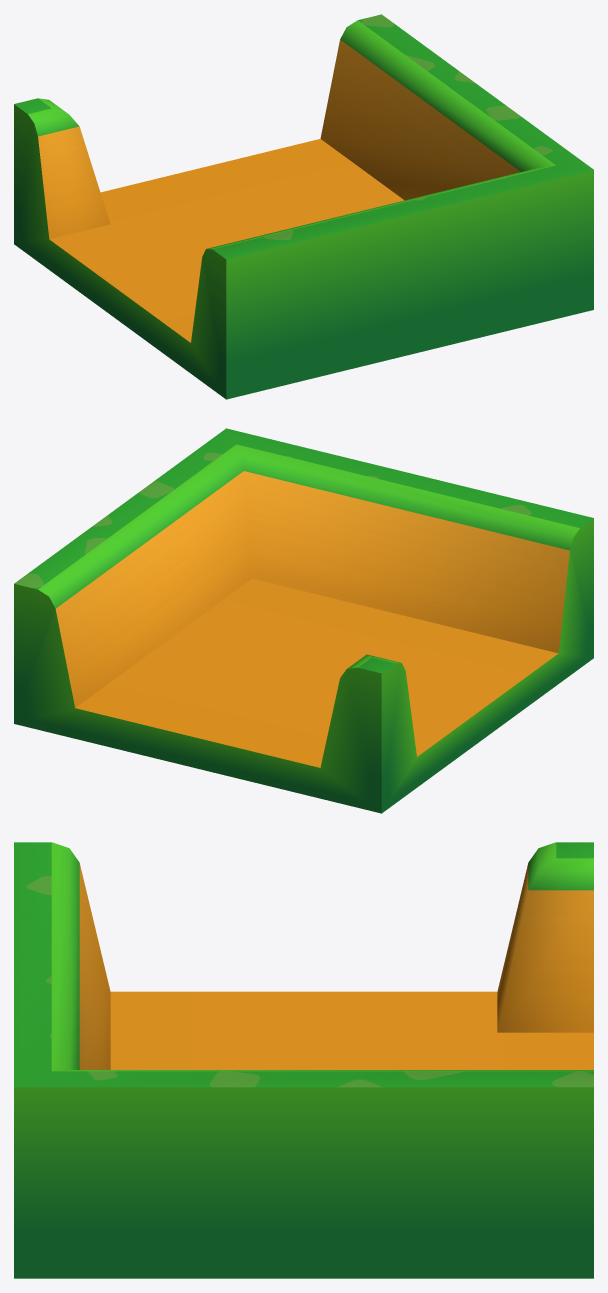
Rendered from RiverTile_2_1.glb.
The picture shows the model from 3 angles, top to bottom: view 1: azimuth 30°, elevation 25°; view 2: azimuth 150°, elevation 25°; view 3: azimuth 270°, elevation 25°; orthographic projection. The views are drawn at different scales.
Visible parts, largest first — view 1: RiverTile_2_1; view 2: RiverTile_2_1; view 3: RiverTile_2_1.
Part boxes in pixels (x1=…): RiverTile_2_1: x1=14, y1=14, x2=593, y2=399; RiverTile_2_1: x1=14, y1=428, x2=593, y2=813; RiverTile_2_1: x1=14, y1=842, x2=593, y2=1278.
Bounding box in the file's own units: 4 × 1.46 × 4.
Materials: 3 (3 with a texture image).
